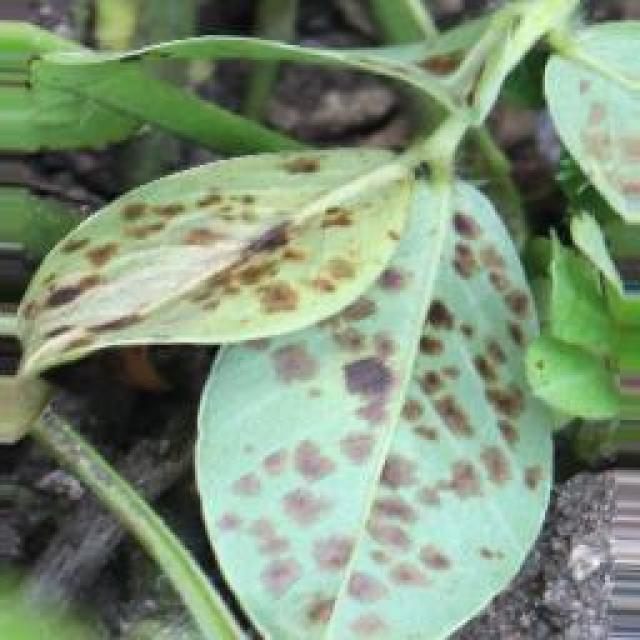Whitefly: (38, 142, 554, 640)
